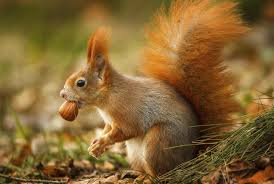Ardilla: (52, 25, 193, 179)
